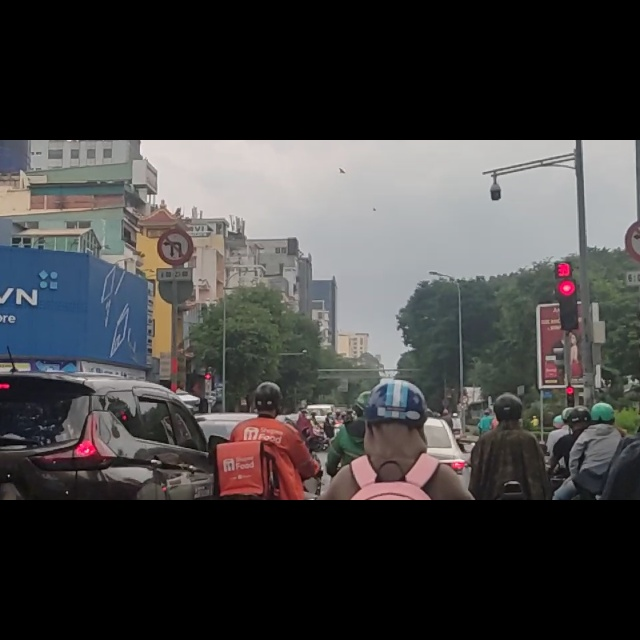bien_cam: (158, 154, 195, 223)
